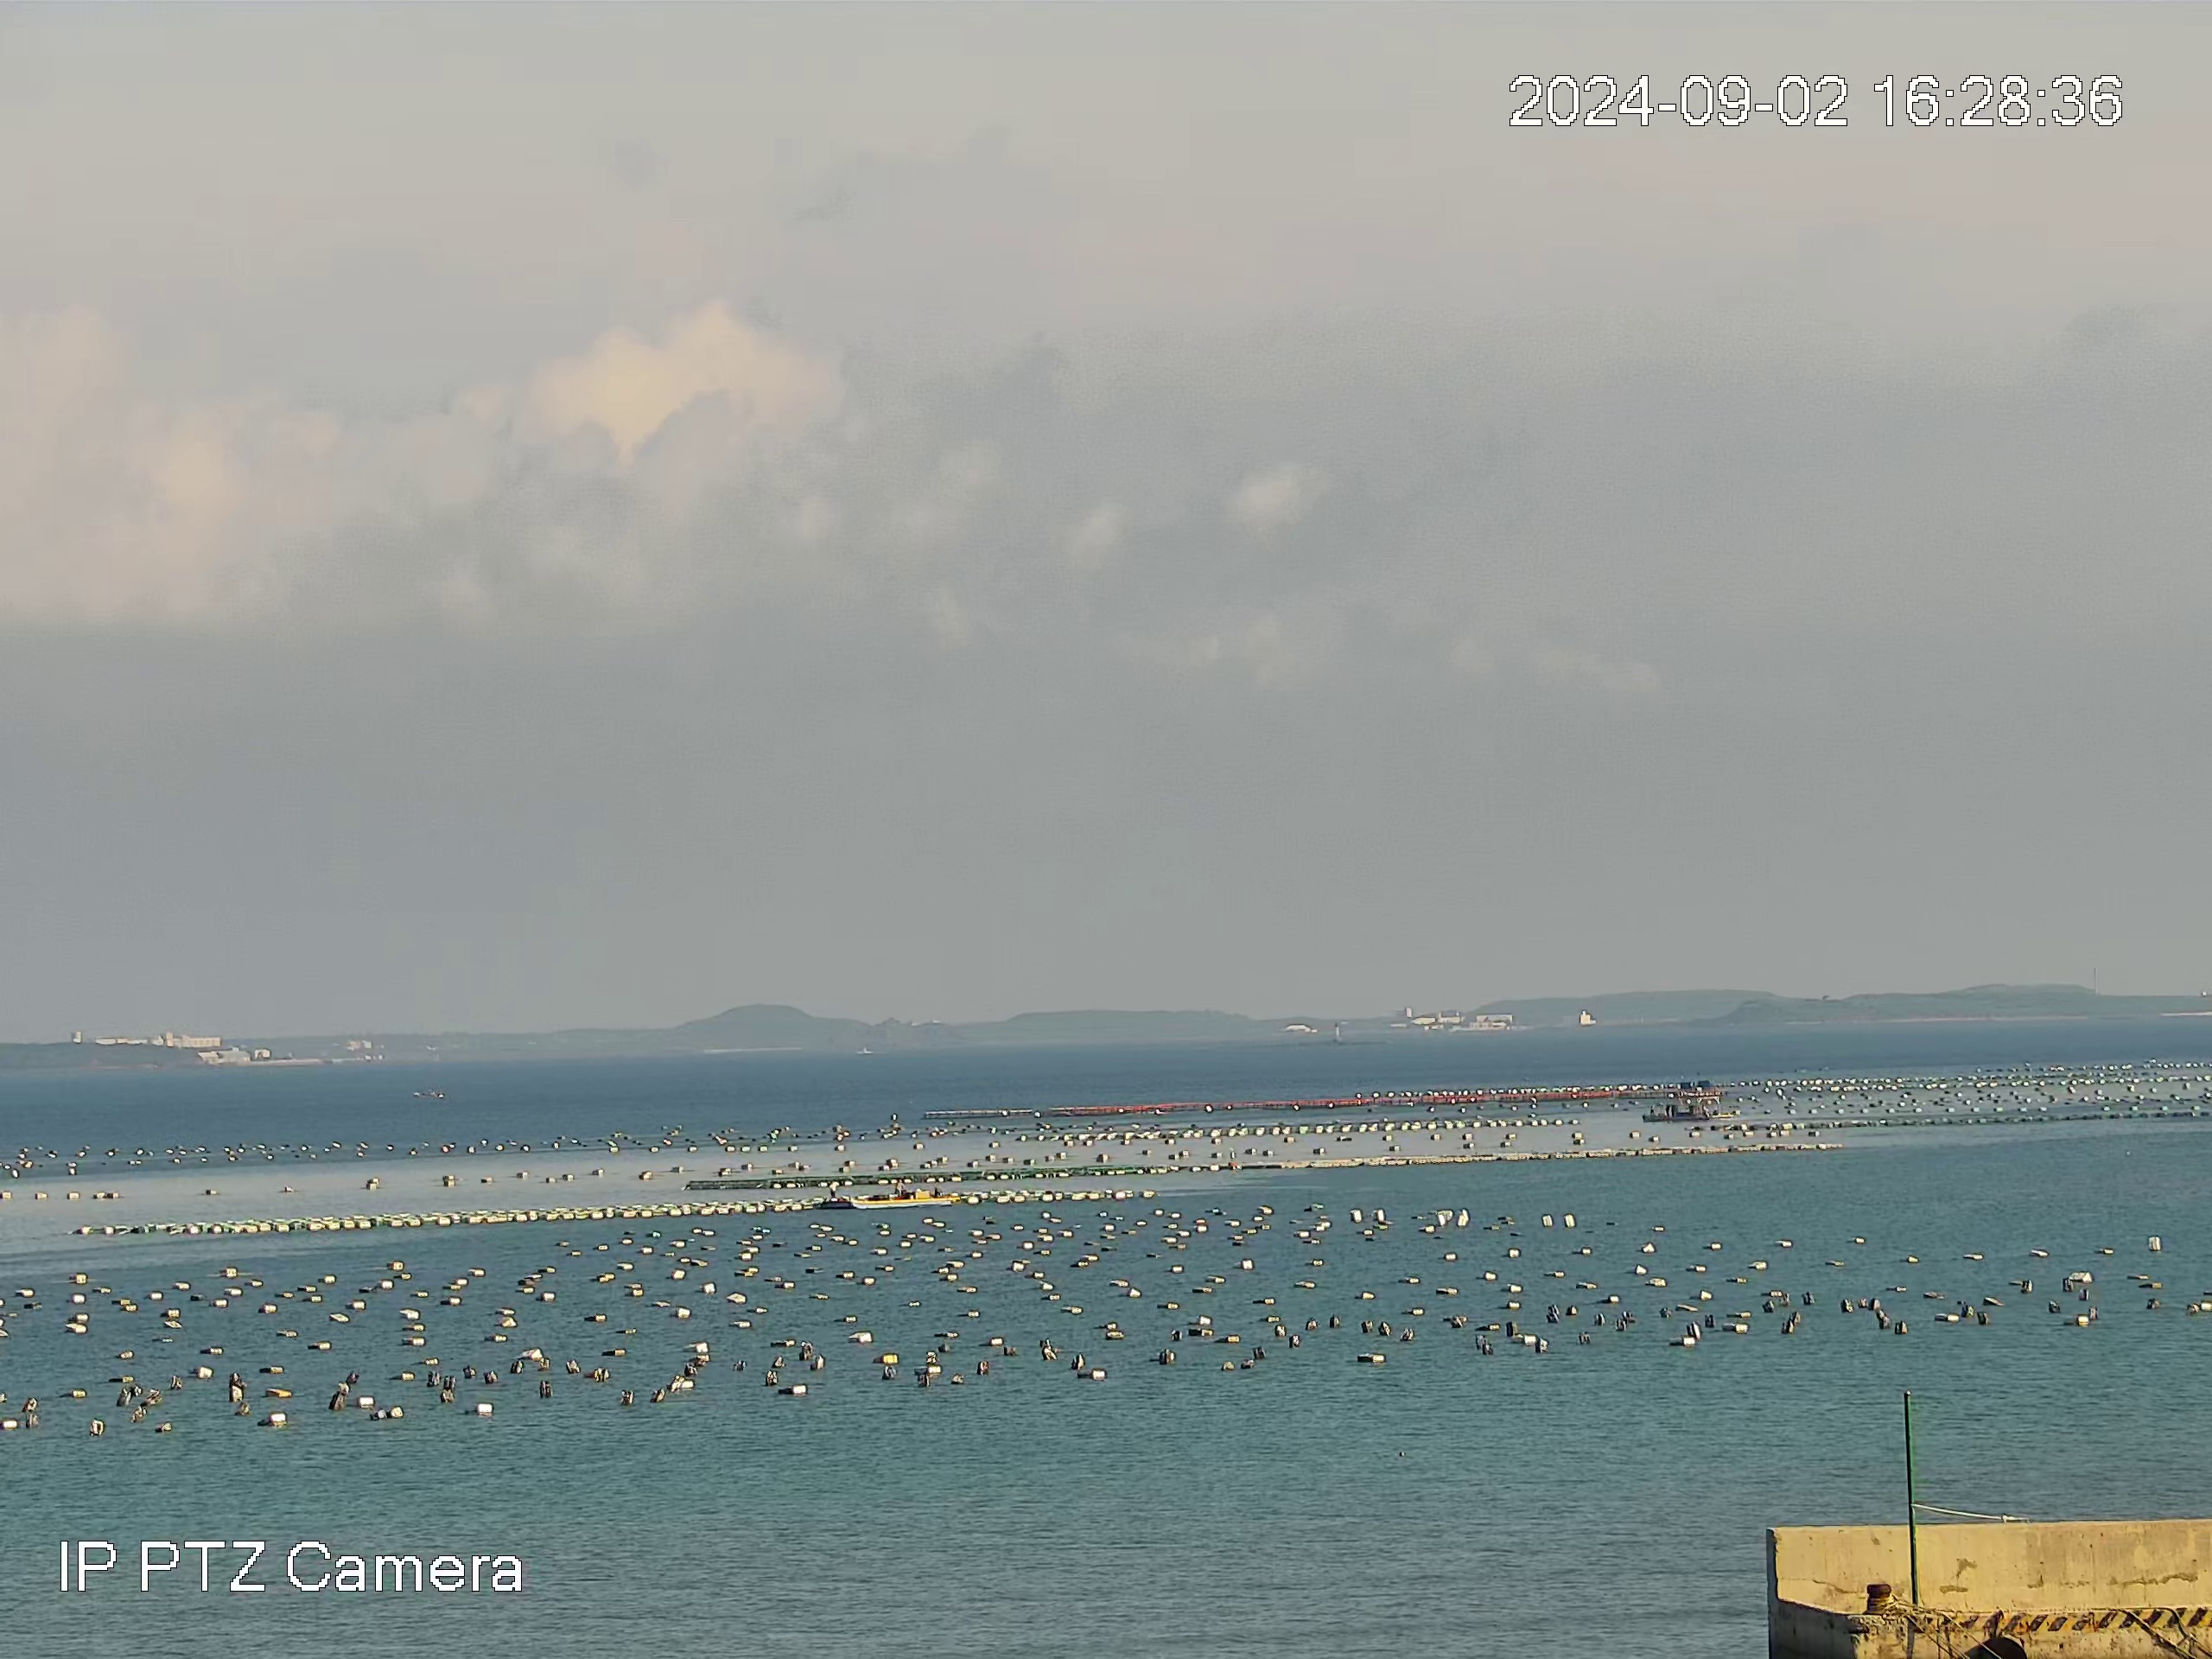boat: (840, 1178, 961, 1209), (1641, 1094, 1735, 1124)
